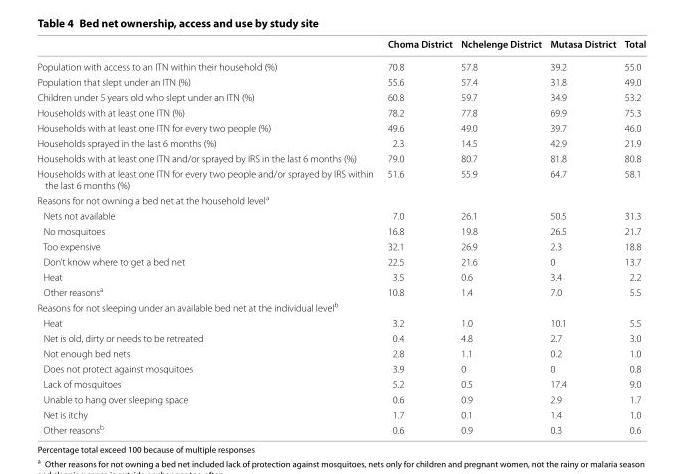table: (36, 37, 645, 435)
table column: (36, 37, 379, 435), (456, 37, 545, 435), (379, 37, 456, 435), (545, 37, 619, 435), (619, 37, 645, 435)
table column header: (36, 37, 645, 54)
table projected row header: (36, 191, 645, 207), (36, 298, 645, 314)
table row: (36, 165, 645, 191), (36, 54, 645, 73), (36, 37, 645, 54), (36, 73, 645, 89), (36, 119, 645, 135), (36, 191, 645, 207), (36, 207, 645, 223), (36, 298, 645, 314), (36, 314, 645, 330), (36, 360, 645, 376), (36, 89, 645, 104), (36, 104, 645, 119), (36, 135, 645, 150), (36, 150, 645, 165), (36, 223, 645, 238), (36, 238, 645, 253), (36, 253, 645, 268), (36, 268, 645, 283), (36, 283, 645, 298), (36, 330, 645, 345), (36, 345, 645, 360), (36, 376, 645, 391), (36, 391, 645, 406), (36, 406, 645, 421), (36, 421, 645, 435)
